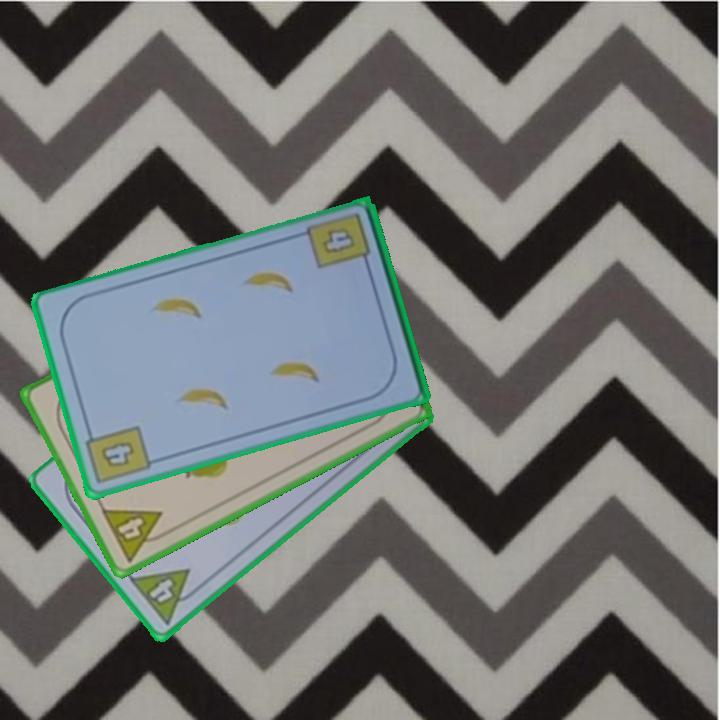4b: (82, 422, 154, 488), (318, 224, 358, 257)
4p: (126, 565, 206, 628), (97, 505, 174, 565)
